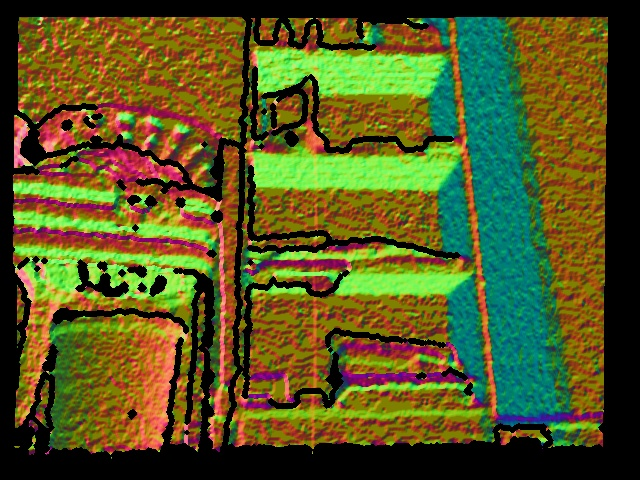station: (258, 76, 330, 154)
